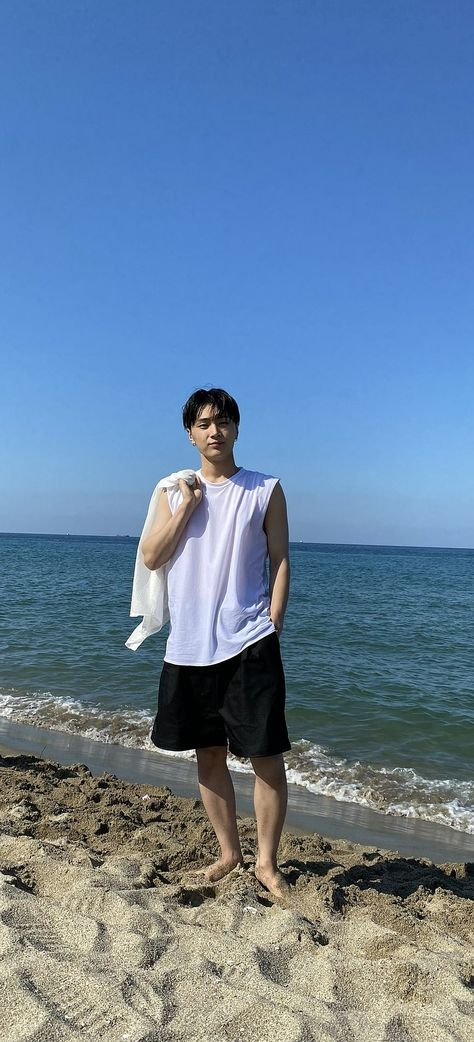person: (124, 380, 312, 906)
